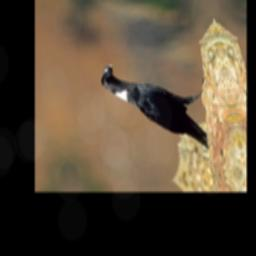Crow: (97, 54, 220, 160)
